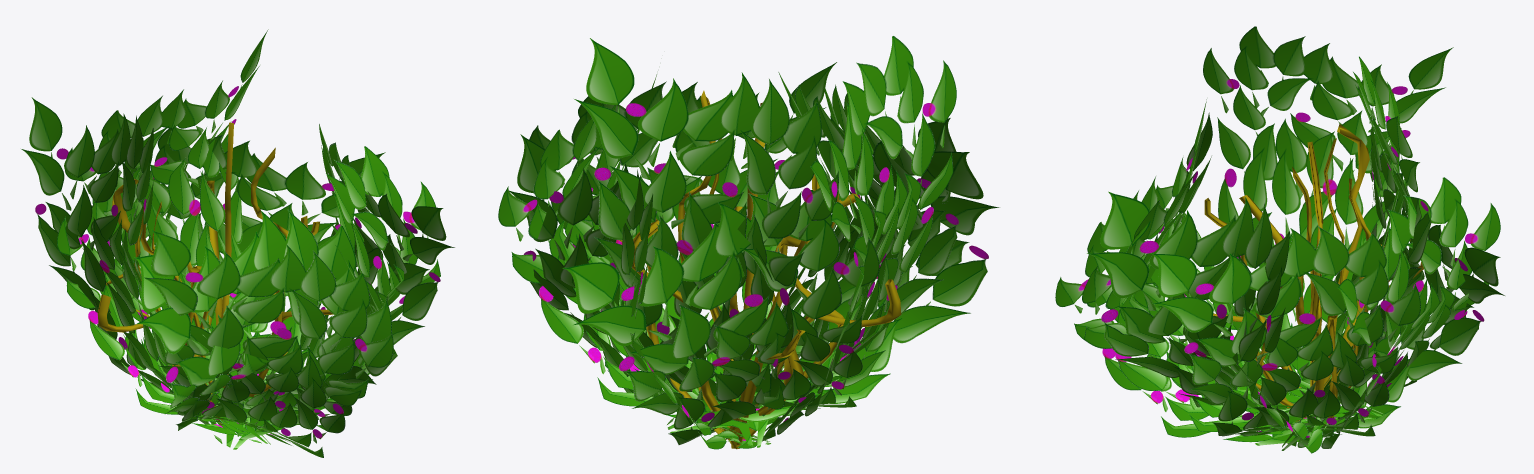
File: bush_expanded.fbx
3 views of the same model, side by side, from view 1: azimuth 30°, elevation 25°; view 2: azimuth 150°, elevation 25°; view 3: azimuth 270°, elevation 25° (orthographic). The views are drawn at different scales.
Visible parts, largest first — view 1: pPlane7, pPlane4, pPlane5, pPlane6, pPlane2, pPlane8, pPlane1, pPlane3, insideTwigs; view 2: pPlane6, pPlane3, pPlane4, pPlane5, pPlane2, pPlane1, pPlane8, pPlane7, insideTwigs; view 3: pPlane1, pPlane4, pPlane8, pPlane2, pPlane3, pPlane5, pPlane7, insideTwigs, pPlane6.
Part boxes in pixels (box(x1,y1,x2,y2)): pPlane7: box(141, 229, 393, 457); pPlane4: box(21, 97, 215, 424); pPlane5: box(134, 209, 391, 430); pPlane6: box(65, 29, 268, 395); pPlane2: box(124, 128, 385, 449); pPlane8: box(216, 146, 440, 424); pPlane1: box(237, 124, 454, 440); pPlane3: box(57, 164, 270, 444); insideTwigs: box(97, 122, 333, 424); pPlane6: box(574, 38, 838, 416); pPlane3: box(562, 190, 879, 444); pPlane4: box(755, 36, 956, 442); pPlane5: box(667, 72, 999, 432); pPlane2: box(509, 134, 770, 449); pPlane1: box(498, 74, 715, 423); pPlane8: box(529, 62, 836, 447); pPlane7: box(758, 84, 968, 424); insideTwigs: box(619, 90, 901, 449); pPlane1: box(1150, 226, 1420, 436); pPlane4: box(1203, 26, 1453, 395); pPlane8: box(1087, 191, 1345, 453); pPlane2: box(1286, 177, 1500, 448); pPlane3: box(1254, 127, 1504, 445); pPlane5: box(1082, 112, 1385, 431); pPlane7: box(1055, 99, 1296, 442); insideTwigs: box(1204, 124, 1423, 426); pPlane6: box(1281, 56, 1431, 450).
Size of the model in its own units: 6.08 by 5.93 by 6.74.
